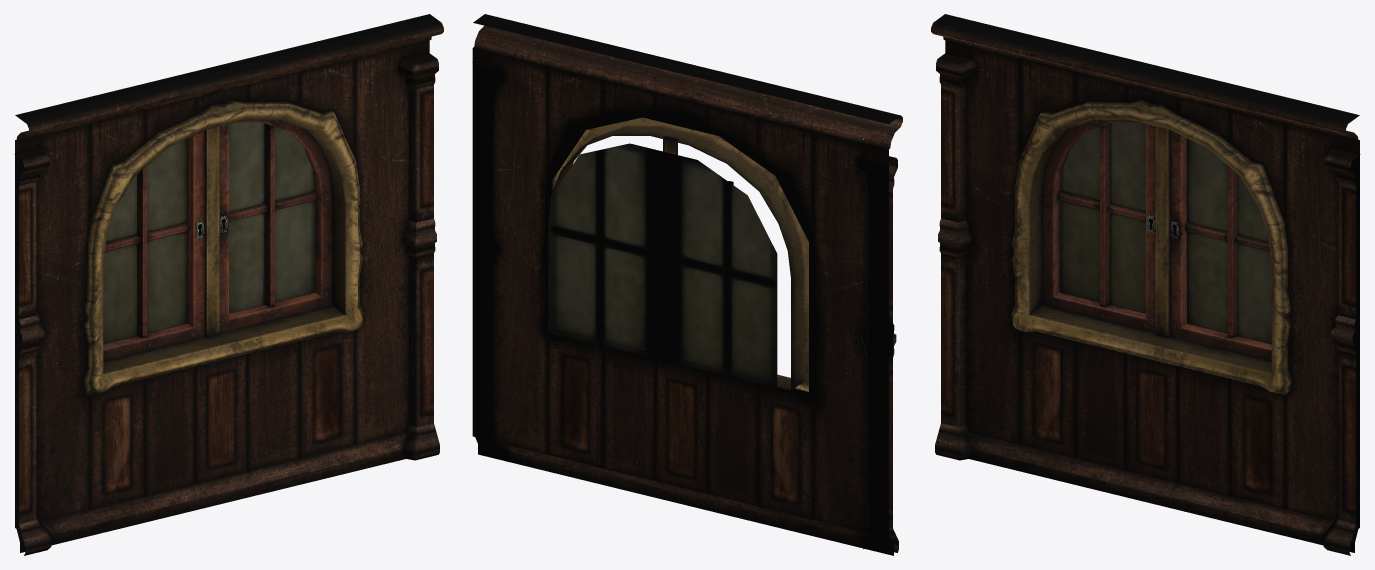
File: window02_yellow.dae
3 renders of one model, left to right at view 1: azimuth 30°, elevation 25°; view 2: azimuth 150°, elevation 25°; view 3: azimuth 330°, elevation 25°, orthographic.
Parts seen in each view (by area): view 1: mansionbase02_window, mansionbase_window_frame1, mansionbase_window_blue; view 2: mansionbase02_window, mansionbase_window_blue, mansionbase_window_frame1; view 3: mansionbase02_window, mansionbase_window_frame1, mansionbase_window_blue.
Boxes of the visible parts, bbox=[...] form: mansionbase02_window: bbox=[14, 14, 443, 555]; mansionbase_window_frame1: bbox=[82, 100, 363, 394]; mansionbase_window_blue: bbox=[103, 123, 315, 344]; mansionbase02_window: bbox=[472, 14, 902, 555]; mansionbase_window_blue: bbox=[550, 143, 777, 390]; mansionbase_window_frame1: bbox=[540, 110, 819, 403]; mansionbase02_window: bbox=[931, 14, 1360, 555]; mansionbase_window_frame1: bbox=[1011, 100, 1292, 394]; mansionbase_window_blue: bbox=[1059, 123, 1271, 344].
Size of the model in its own units: 4 by 4 by 0.5209.
